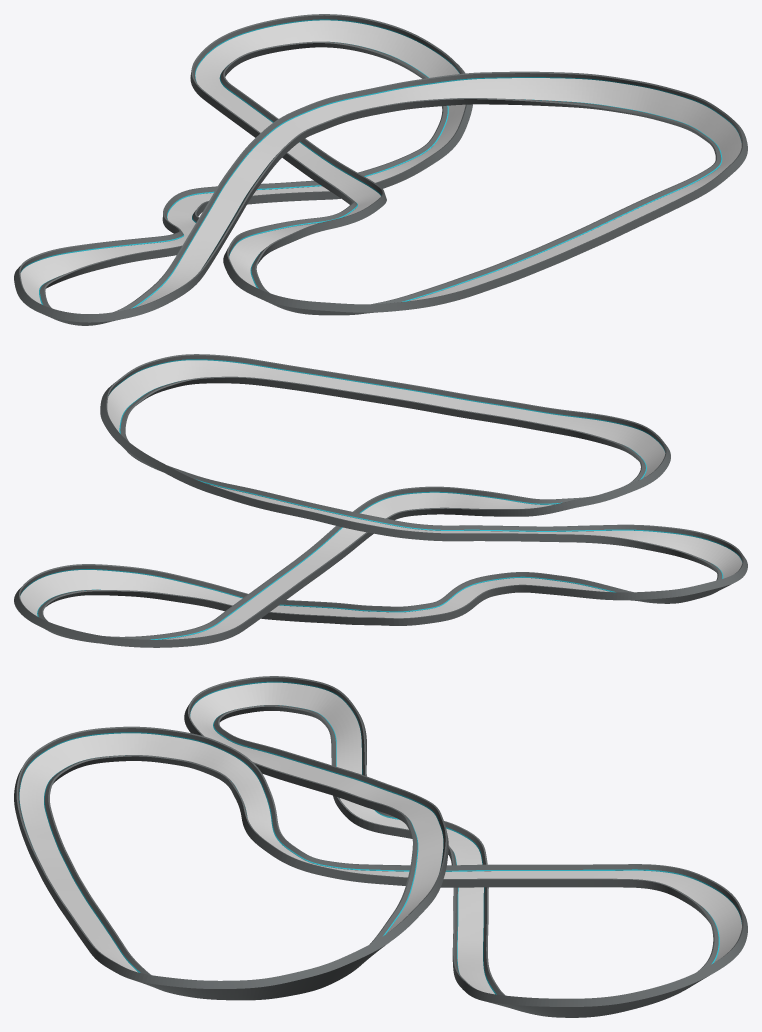
The model's file is Track_v1_SmoothFixedUV.fbx.
3 views of the same model, one above another, from view 1: azimuth 30°, elevation 25°; view 2: azimuth 150°, elevation 25°; view 3: azimuth 270°, elevation 25° (orthographic). The views are drawn at different scales.
Parts seen in each view (by area): view 1: Walls, Floor; view 2: Walls, Floor; view 3: Walls, Floor.
Part boxes in pixels (x1,y1,x2,y2): Walls: (14,14,747,325); Floor: (20,20,741,307); Walls: (14,354,747,647); Floor: (20,360,742,639); Walls: (14,676,747,1017); Floor: (19,682,741,994).
Size of the model in its own units: 185912 by 28377 by 166808.
